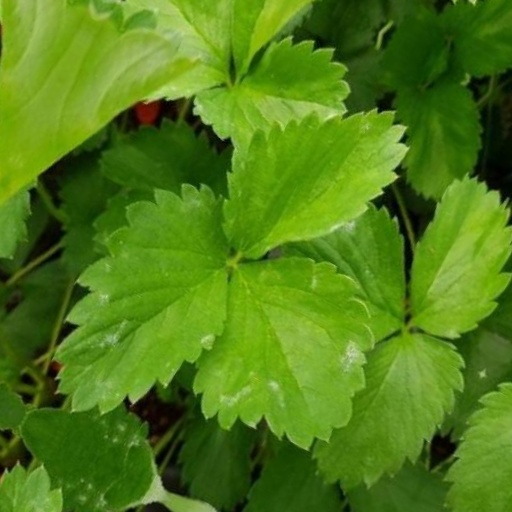Powdery Mildew Leaf: (111, 217, 264, 481), (243, 224, 419, 424), (187, 60, 344, 267), (123, 35, 269, 176)
